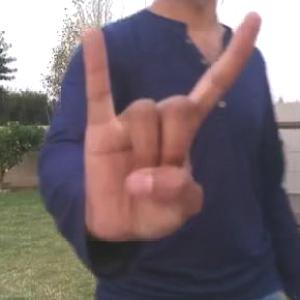takeoff-hand: (75, 3, 267, 250)
